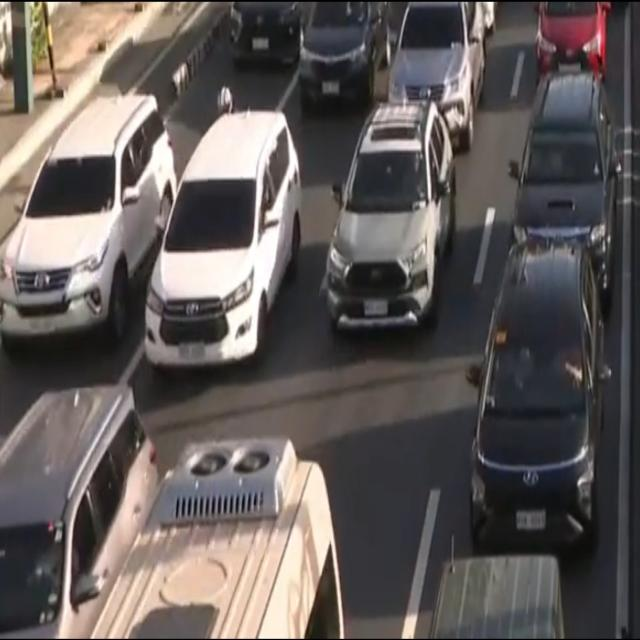SUV: (0, 96, 178, 359), (145, 111, 304, 372), (0, 389, 156, 640), (328, 110, 457, 338), (506, 78, 618, 300), (410, 524, 572, 640), (384, 0, 488, 144)
Sedan: (463, 242, 608, 557), (298, 0, 392, 110), (530, 0, 611, 84), (230, 0, 308, 74)
Van: (84, 438, 345, 640)
